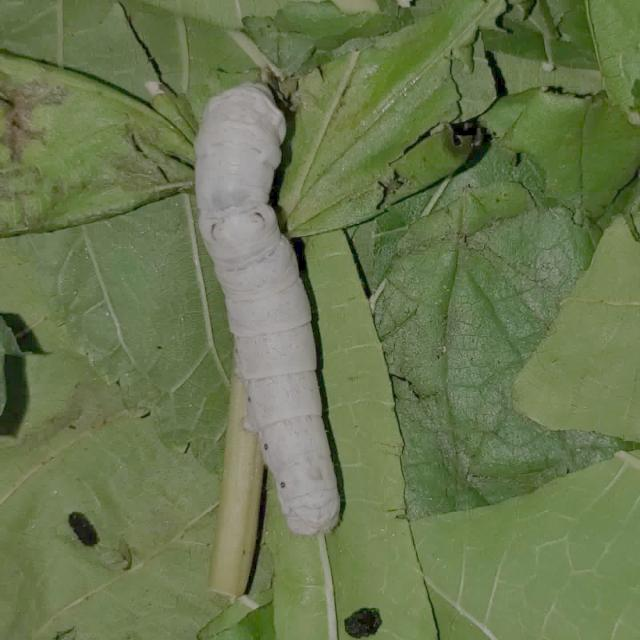Healthy: (164, 58, 376, 573)
